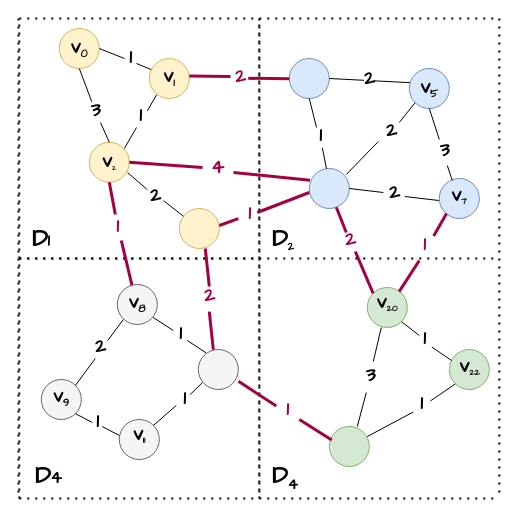
Some shapes in this 518 by 517 pixel diagram are drawn without their labels. The centre of each missing label's shape, as x and y in pixels:
v 10: pixel 217 369
v 21: pixel 348 446
v 3: pixel 198 228
v 4: pixel 308 78
v 6: pixel 328 188
